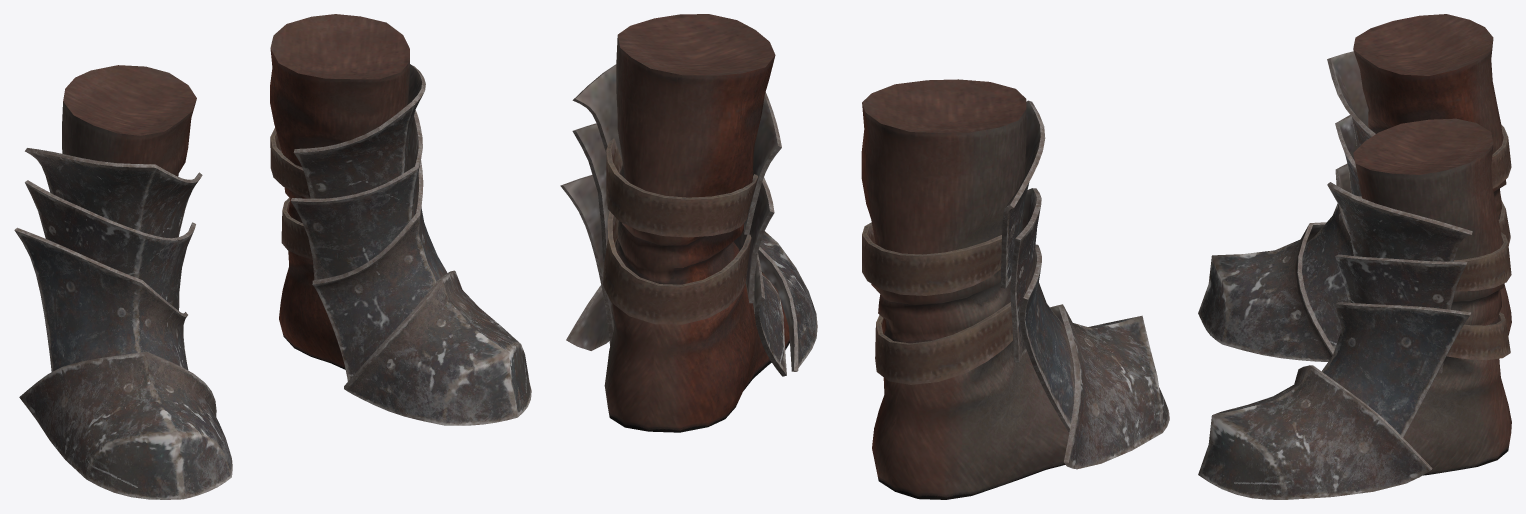
Rendered from sk_dg_uruk_boots_elite_a.fbx.
3 views of the same model, side by side, from view 1: azimuth 30°, elevation 25°; view 2: azimuth 150°, elevation 25°; view 3: azimuth 270°, elevation 25° (orthographic). The views are drawn at different scales.
Visible parts, largest first — view 1: sk_dg_uruk_boots_elite_a.0, sk_dg_uruk_boots_elite_a.1; view 2: sk_dg_uruk_boots_elite_a.0, sk_dg_uruk_boots_elite_a.1; view 3: sk_dg_uruk_boots_elite_a.0, sk_dg_uruk_boots_elite_a.1.
Boxes of the visible parts, bbox=[...] form: sk_dg_uruk_boots_elite_a.0: bbox=[14, 14, 531, 499]; sk_dg_uruk_boots_elite_a.1: bbox=[270, 127, 312, 259]; sk_dg_uruk_boots_elite_a.0: bbox=[560, 14, 1169, 499]; sk_dg_uruk_boots_elite_a.1: bbox=[603, 138, 1012, 384]; sk_dg_uruk_boots_elite_a.0: bbox=[1198, 14, 1511, 499]; sk_dg_uruk_boots_elite_a.1: bbox=[1447, 125, 1511, 360].
Size of the model in its own units: 0.5842 by 0.3648 by 0.3965.
Materials: 2 (2 with a texture image).
